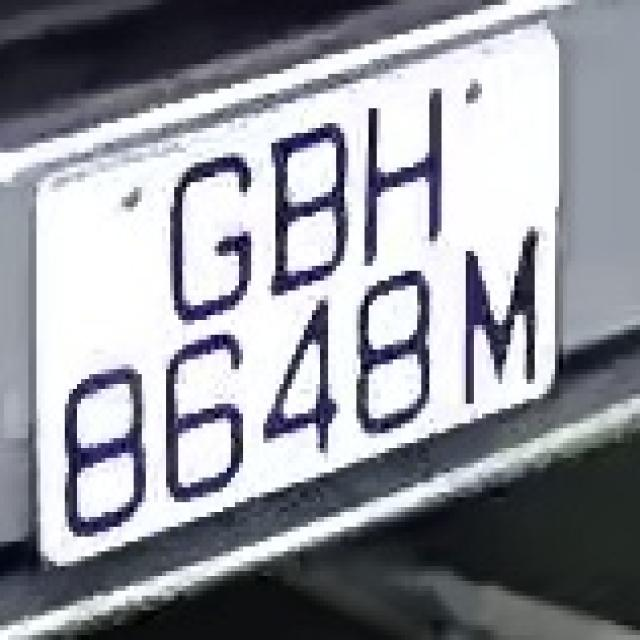4: (243, 305, 352, 497)
6: (166, 315, 251, 522)
8: (336, 271, 442, 443), (57, 354, 150, 546)
B: (259, 114, 361, 290)
G: (158, 128, 259, 330)
H: (352, 79, 454, 271)
M: (446, 216, 555, 424)
